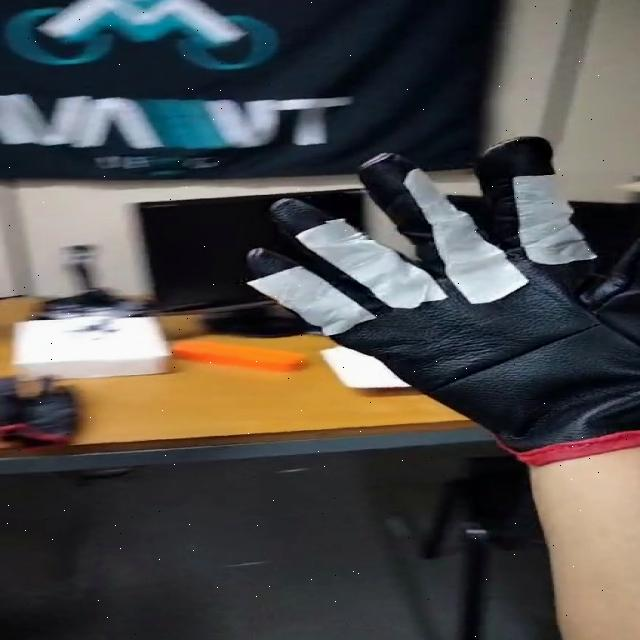Gloves: (237, 140, 640, 465)
